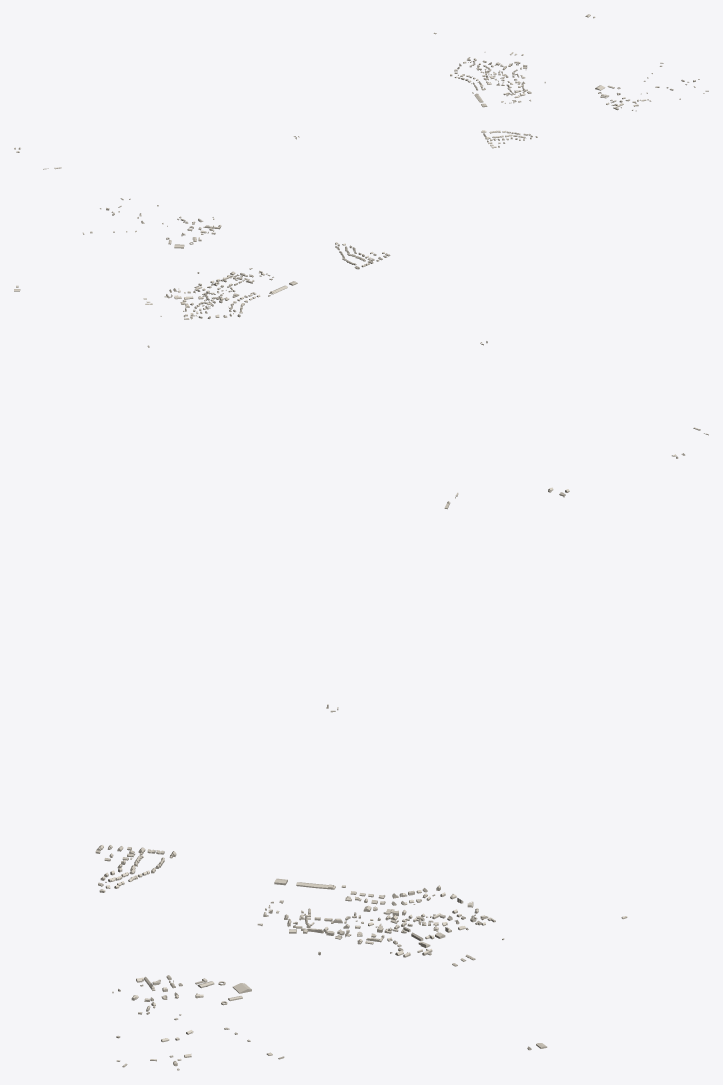
3 views of the same model, one above another, from view 1: azimuth 30°, elevation 25°; view 2: azimuth 150°, elevation 25°; view 3: azimuth 270°, elevation 25° (orthographic). The views are drawn at different scales.
Bounding box in the file's own units: 3570 × 28.87 × 1393.
